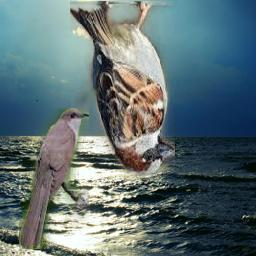Cuckoo: (19, 109, 89, 250)
Sparrow: (71, 2, 176, 177)
